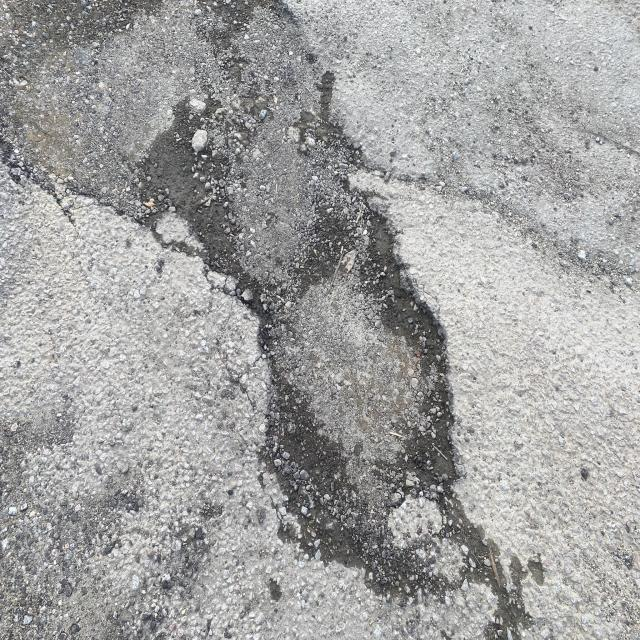Pothole: (152, 118, 525, 580)
